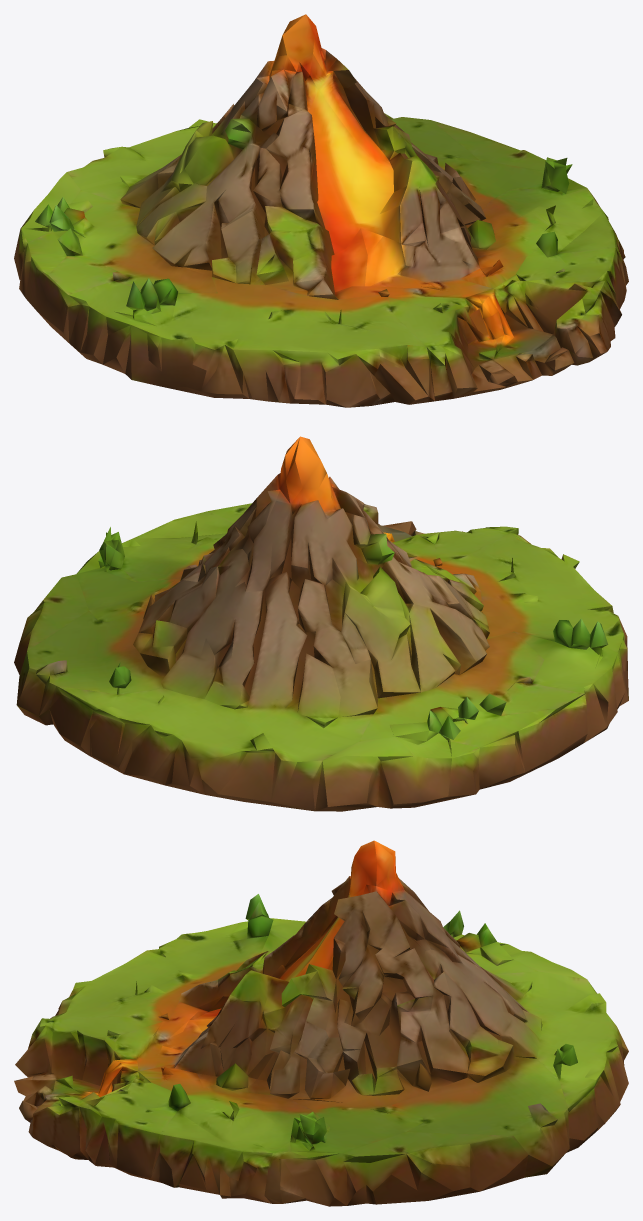
Rendered from volcano.glb.
The picture shows the model from 3 angles, top to bottom: view 1: azimuth 30°, elevation 25°; view 2: azimuth 150°, elevation 25°; view 3: azimuth 270°, elevation 25°; orthographic projection. The views are drawn at different scales.
Visible parts, largest first — view 1: model; view 2: model; view 3: model.
Part boxes in pixels (x1,y1,x2,y2): model: (14,14,628,407); model: (14,436,628,811); model: (14,840,628,1206).
Bounding box in the file's own units: 1.81 × 0.8426 × 1.9.
Materials: 1 (1 with a texture image).
